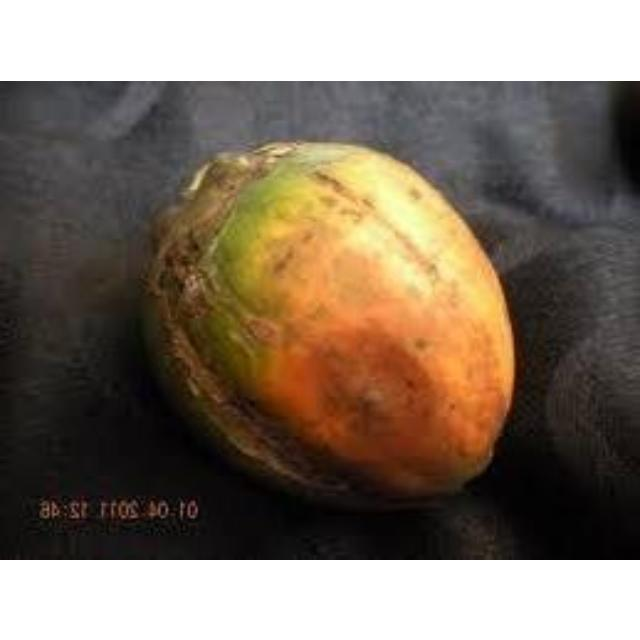good: (138, 139, 519, 512)
